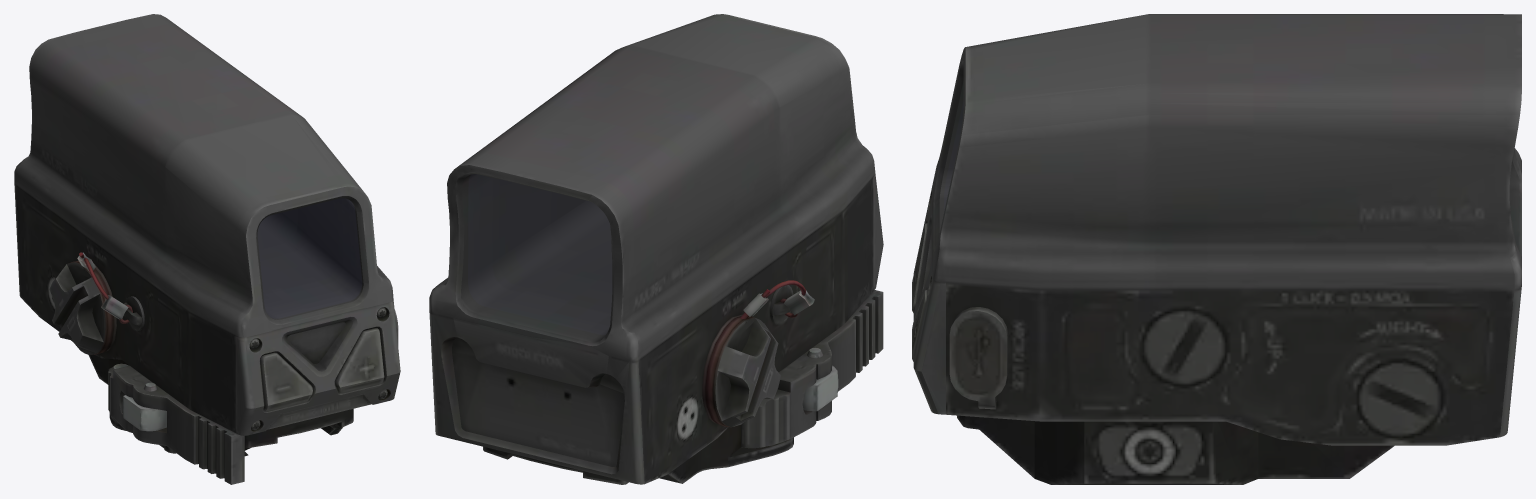
File: Holographic-Sight-Mozzie.glb
3 views of the same model, side by side, from view 1: azimuth 30°, elevation 25°; view 2: azimuth 150°, elevation 25°; view 3: azimuth 270°, elevation 25° (orthographic). The views are drawn at different scales.
Parts seen in each view (by area): view 1: Holographic Sight Mozzie; view 2: Holographic Sight Mozzie; view 3: Holographic Sight Mozzie.
Part boxes in pixels (x1=…): Holographic Sight Mozzie: x1=14, y1=14, x2=400, y2=484; Holographic Sight Mozzie: x1=429, y1=14, x2=883, y2=484; Holographic Sight Mozzie: x1=912, y1=14, x2=1521, y2=484.
Size of the model in its own units: 0.0519 by 0.0683 by 0.0962.
Materials: 2 (1 with a texture image).
